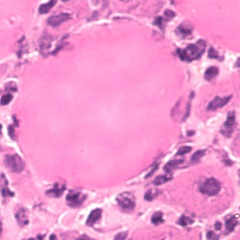New: (157, 160, 238, 220), (124, 217, 205, 240), (230, 121, 240, 163)
